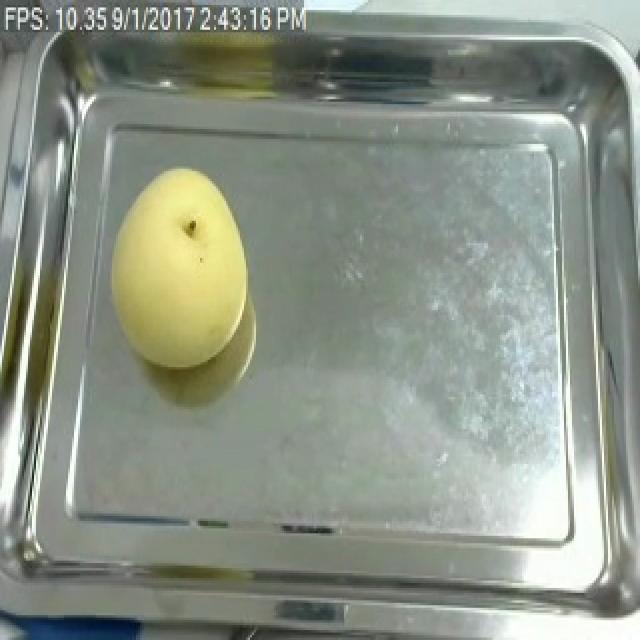Fruit: (96, 156, 258, 377)
